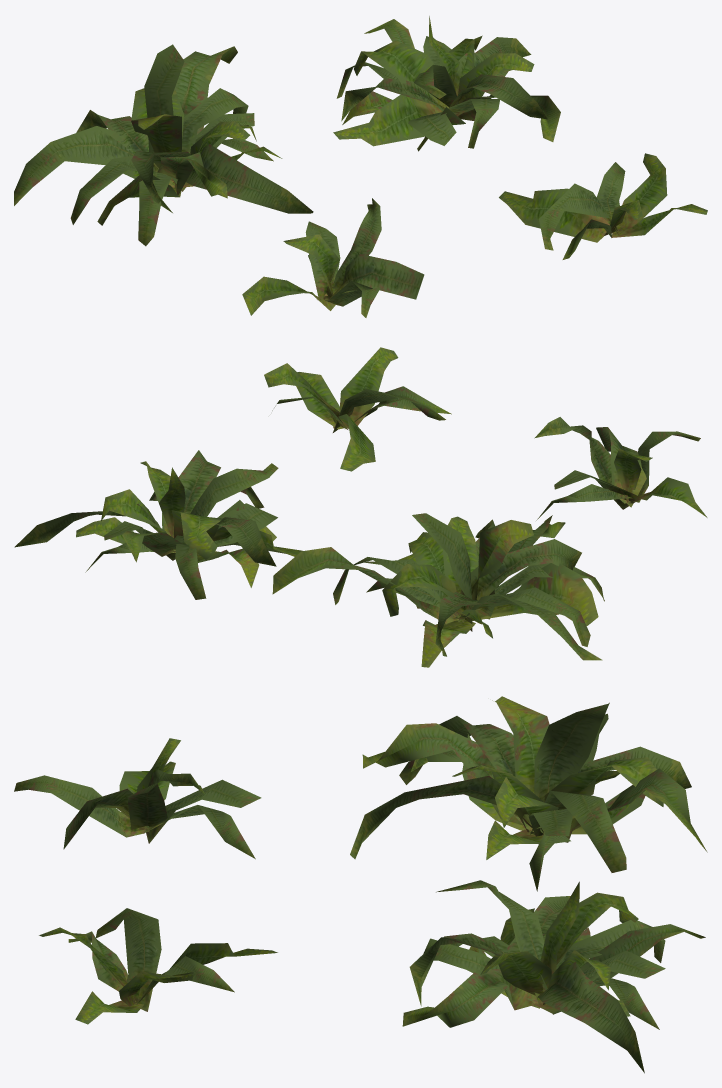
Rendered from fern_02.glb.
3 renders of one model, top to bottom at view 1: azimuth 30°, elevation 25°; view 2: azimuth 150°, elevation 25°; view 3: azimuth 270°, elevation 25°, orthographic. The views are drawn at different scales.
Visible parts, largest first — view 1: fern_02_b; view 2: fern_02_b; view 3: fern_02_b.
Boxes of the visible parts, bbox=[...] form: fern_02_b: bbox=[14, 16, 707, 317]; fern_02_b: bbox=[14, 347, 707, 667]; fern_02_b: bbox=[14, 696, 707, 1073].
Bounding box in the file's own units: 1.96 × 0.4245 × 1.72.
Materials: 1 (1 with a texture image).
